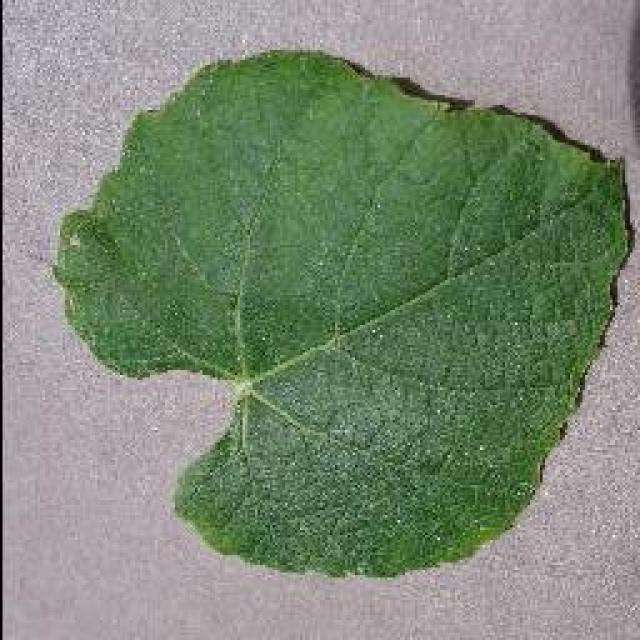Grape___healthy: (52, 50, 628, 575)
